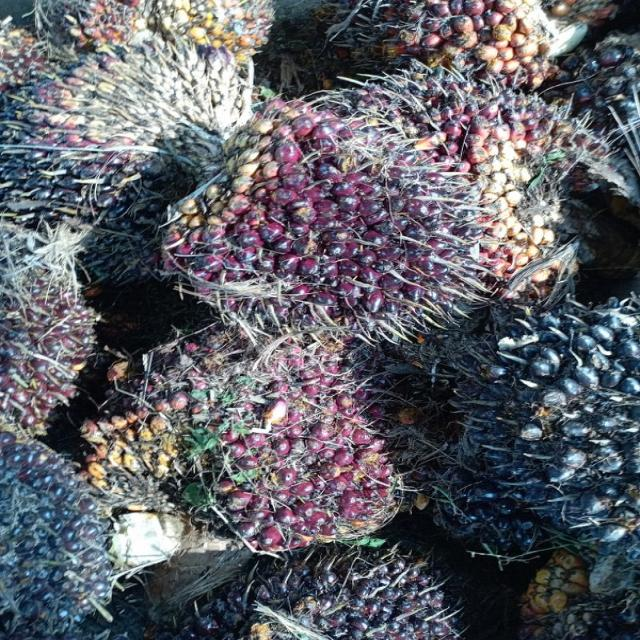fraksi 1: (152, 56, 538, 390)
